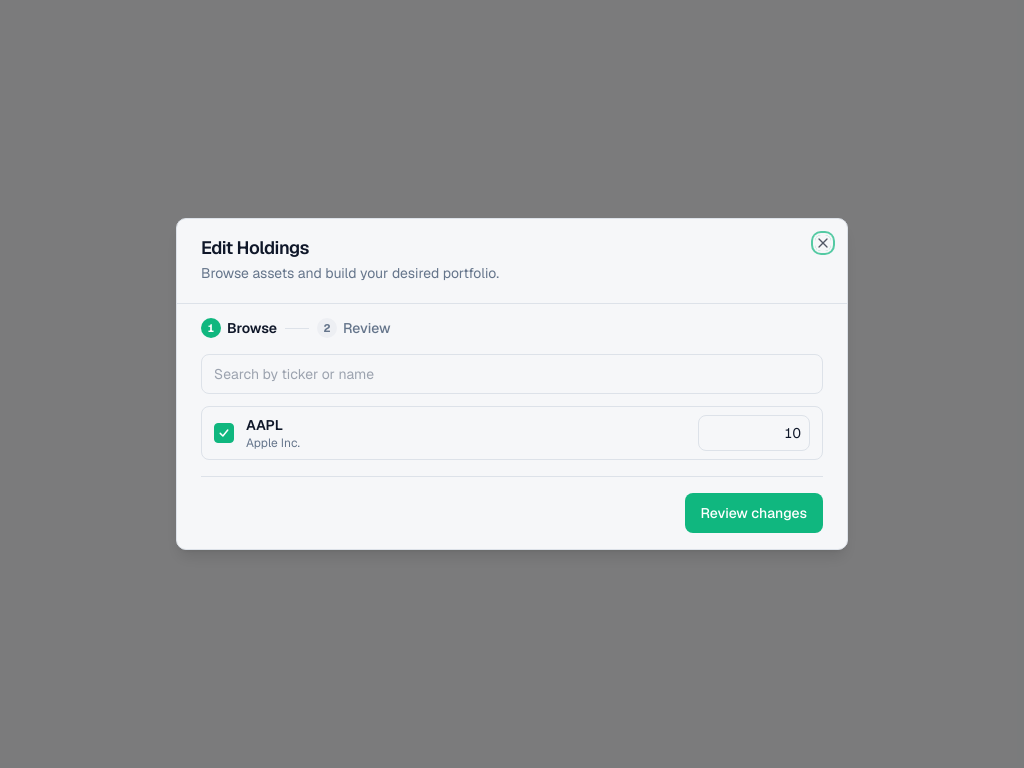
it: AssetPicker — Review changes is blocked while the draft is invalid (review-fix) › re-enables Review changes once the value is corrected
Replace the text in the field named "AAPL quantity" with "0": (754, 433) [698,415,810,451]
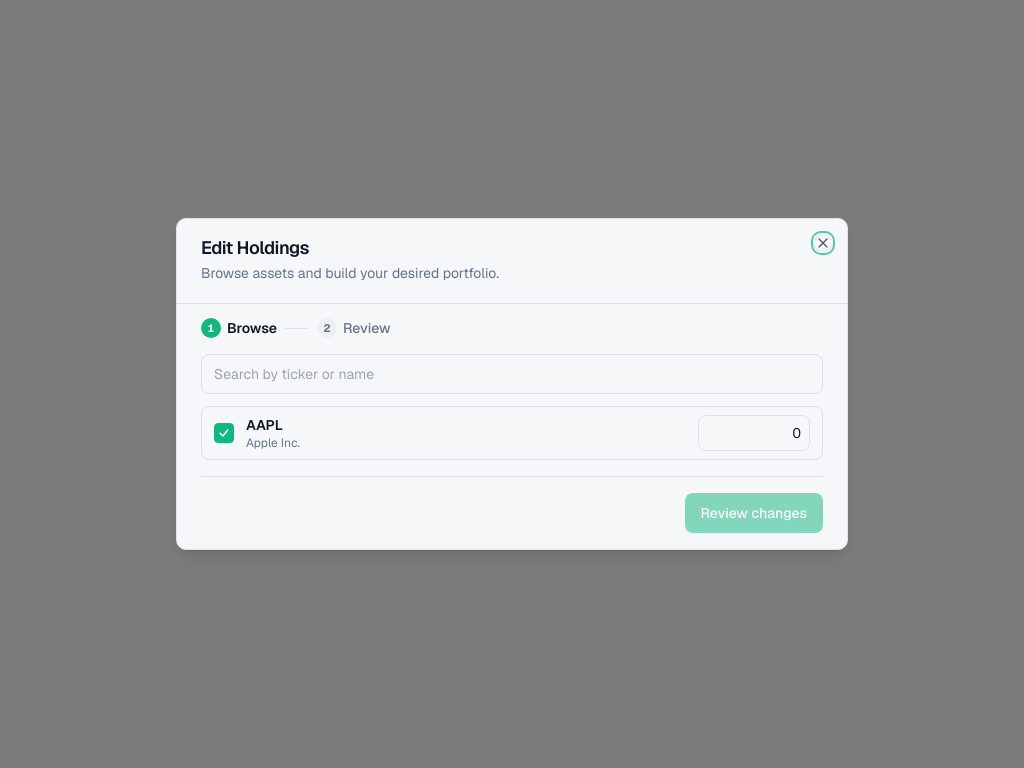
Result: the button "Review changes" is disabled at [684,493,823,533]
Replace the text in the field named "AAPL quantity" with "5": (754, 433) [698,415,810,451]
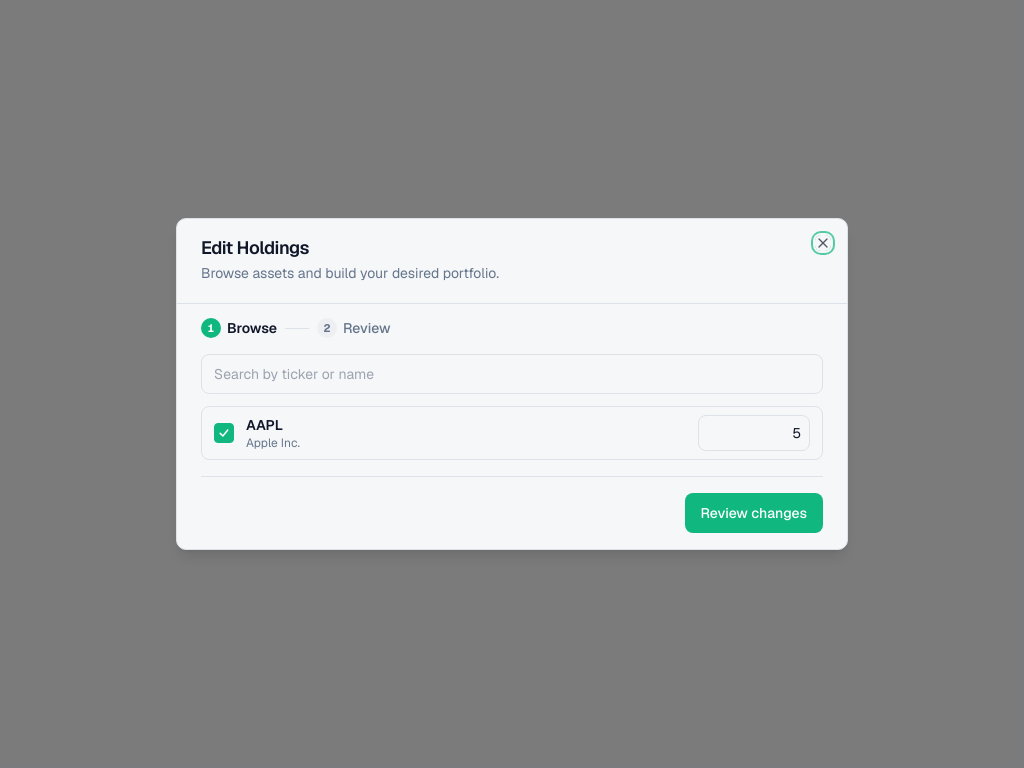
Result: the button "Review changes" is enabled at [684,493,823,533]
